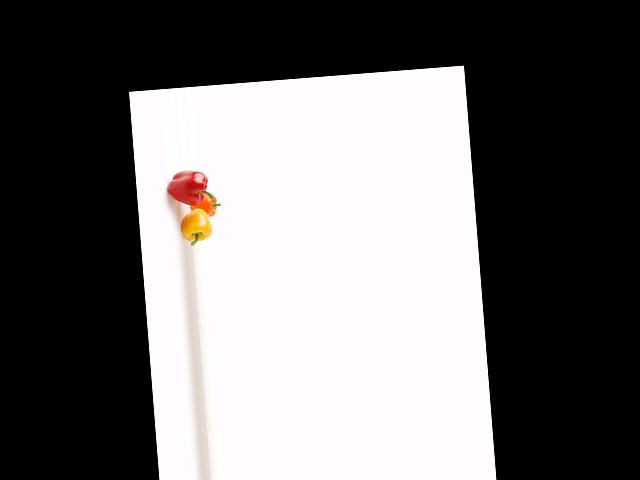bell_pepper: (161, 167, 218, 209)
